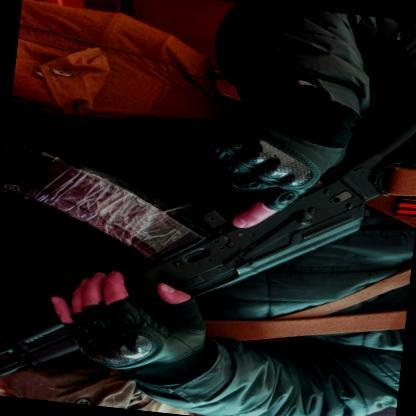rifle: (0, 86, 412, 416)
